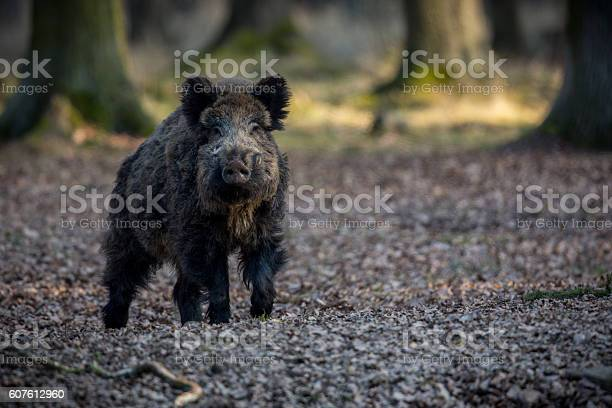pig: (85, 72, 309, 326)
